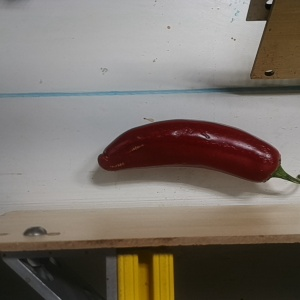Cut Point: (256, 141, 289, 185)
